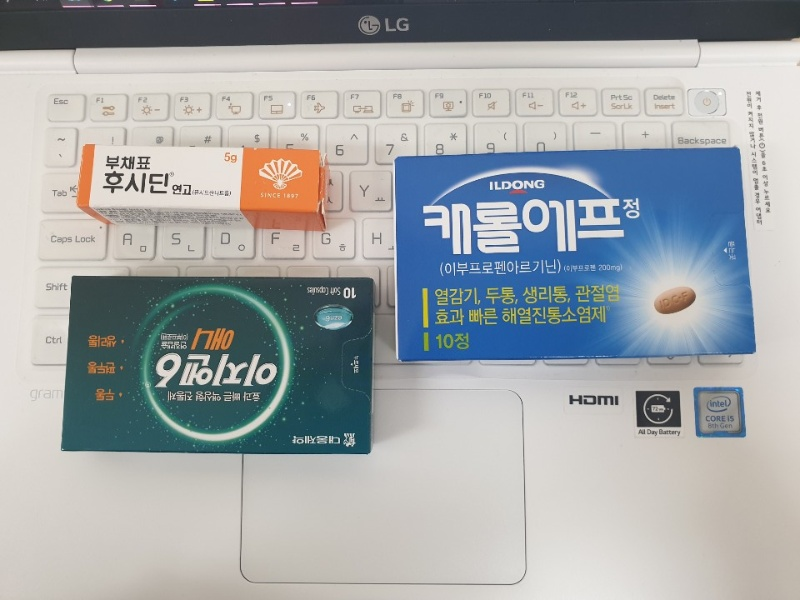ezn: (63, 274, 373, 453)
fucidin: (77, 142, 327, 229)
